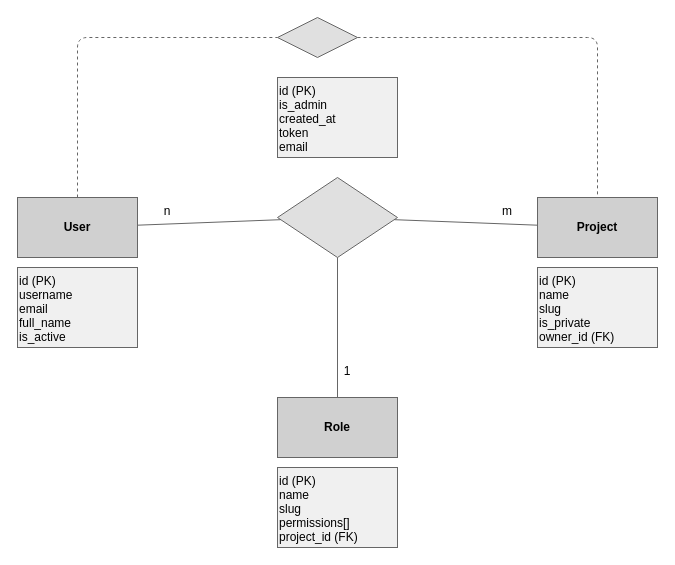
Image size: 675x565. Some labels were removed from this diagram. The centre of each missing label's shape, as x and y in pixels:
"Membership 成员关系" belongs at point 337,217.
"拥有" belongs at point 317,37.
